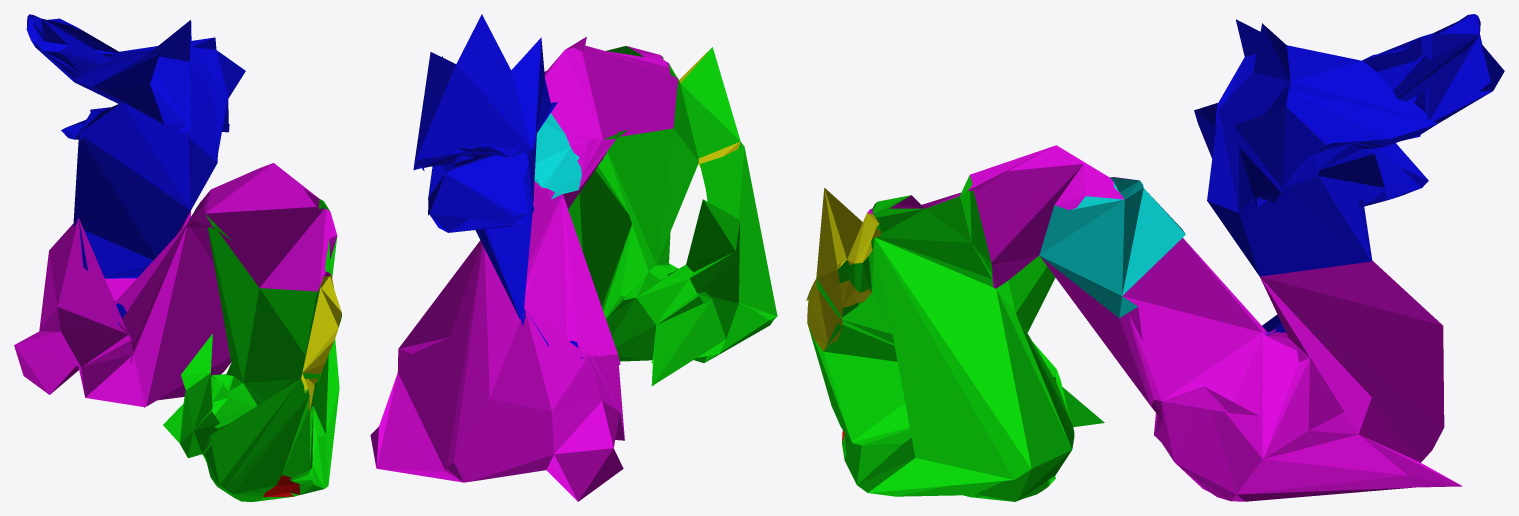
File: Dragon_80K_L7.fbx
3 views of the same model, side by side, from view 1: azimuth 30°, elevation 25°; view 2: azimuth 150°, elevation 25°; view 3: azimuth 270°, elevation 25° (orthographic). The views are drawn at different scales.
Size of the model in its own units: 0.3968 by 0.6803 by 0.8929.
